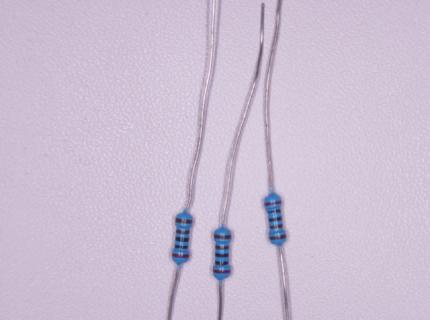Black band: (175, 236, 189, 242), (269, 217, 282, 223), (175, 244, 189, 249), (267, 209, 281, 214), (215, 253, 229, 257), (215, 261, 229, 265)
Brown band: (269, 235, 287, 241), (175, 218, 192, 224), (214, 234, 232, 239), (269, 224, 283, 230), (216, 245, 229, 250), (176, 229, 189, 234)
Red band: (264, 201, 282, 207), (172, 253, 190, 259), (213, 269, 230, 274)
